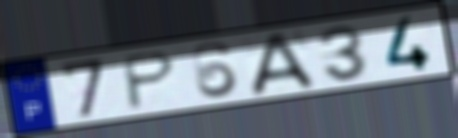3: (317, 23, 368, 84)
4: (383, 13, 435, 74)
6: (190, 41, 240, 102)
7: (58, 56, 108, 121)
A: (249, 29, 320, 99)
P: (123, 49, 180, 113)
